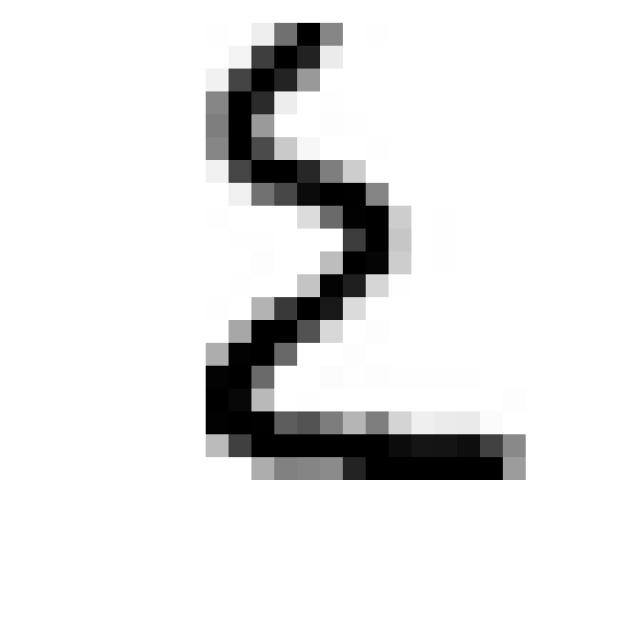4 -four-: (169, 2, 552, 504)
